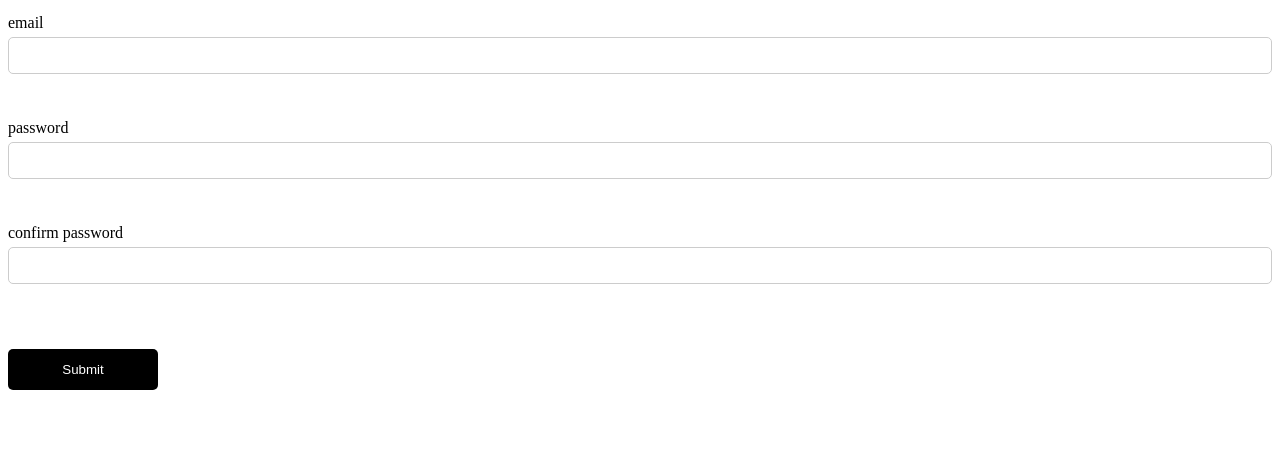
Test case: Form Tests › Error › email invalid error
This screenshot has width=1280, height=462.
Type "invalid_email@email" into the field labelled "email".
click(640, 56); type("invalid_email@email")  # box [8,37,1272,74]
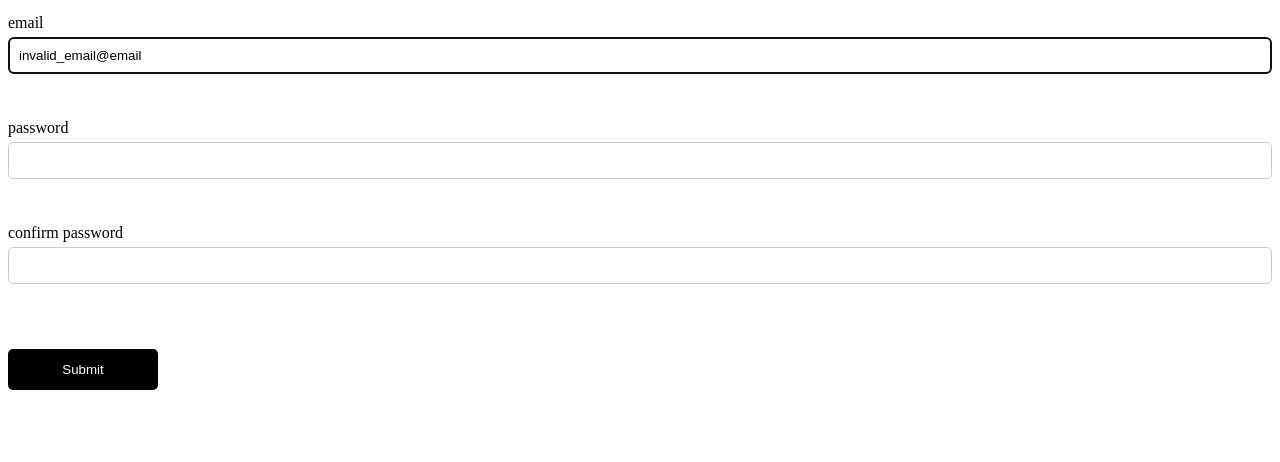
Click the button "Submit".
click(83, 370)  # box [8,349,158,390]
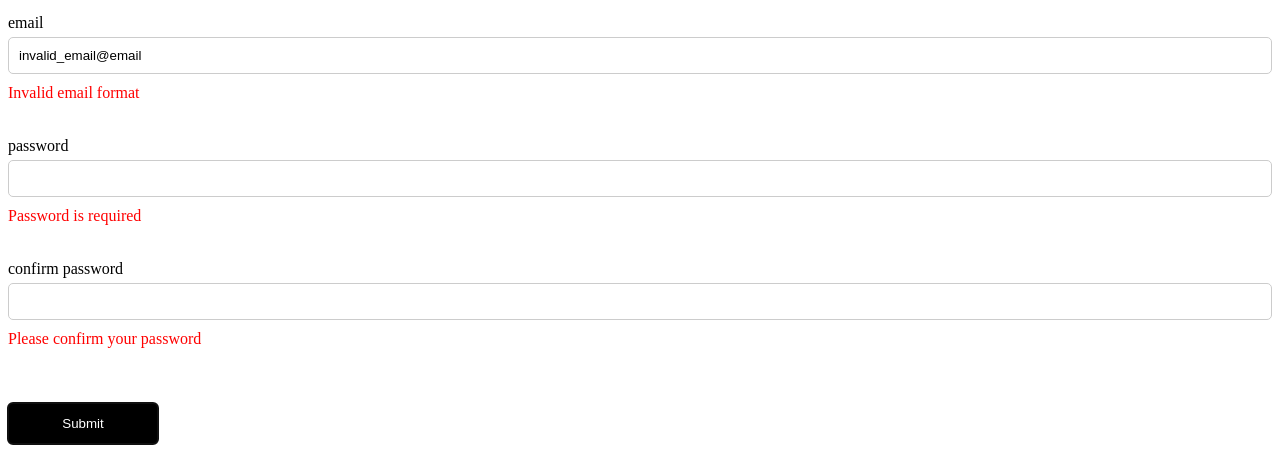
Check: the text "Invalid email format" is shown, box [8,84,140,101]
